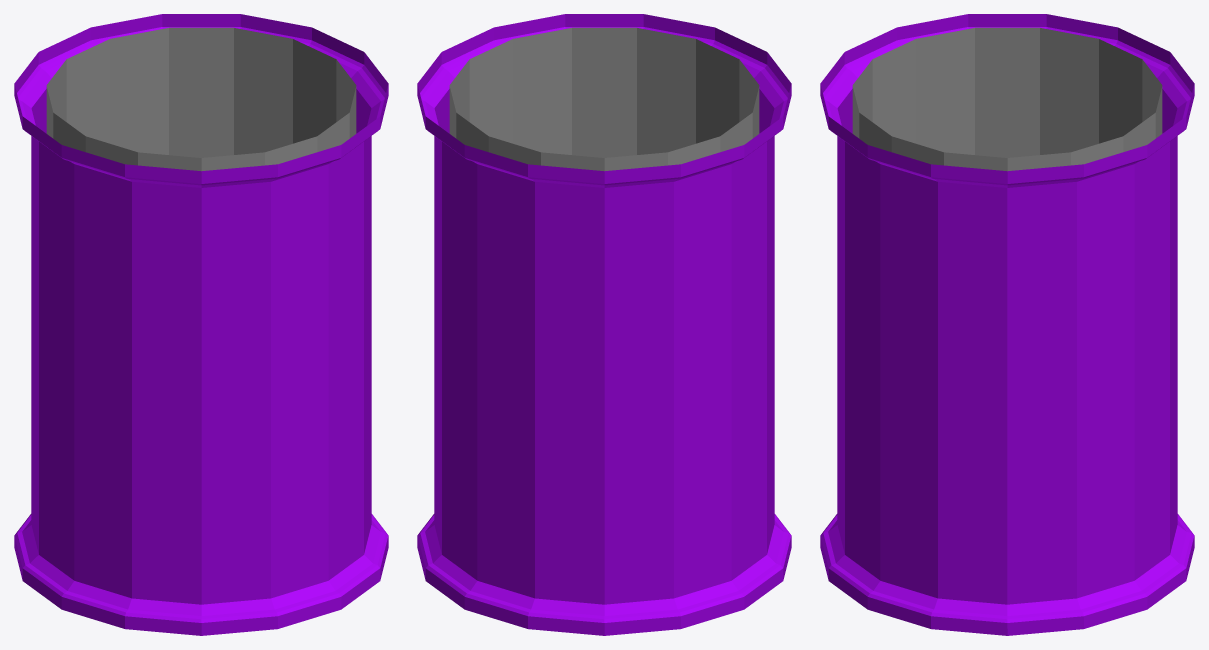
File: WorkshopVR_Manon_AquariumModulaire_TuyauDroit01_LP_TEST.FBX
3 renders of one model, left to right at view 1: azimuth 30°, elevation 25°; view 2: azimuth 150°, elevation 25°; view 3: azimuth 270°, elevation 25°, orthographic.
Parts seen in each view (by area): view 1: Tuyau_Droit_01; view 2: Tuyau_Droit_01; view 3: Tuyau_Droit_01.
Boxes of the visible parts, bbox=[...] form: Tuyau_Droit_01: bbox=[14, 14, 388, 635]; Tuyau_Droit_01: bbox=[417, 14, 791, 635]; Tuyau_Droit_01: bbox=[820, 14, 1194, 635].
Size of the model in its own units: 21.76 by 30.02 by 21.88.
